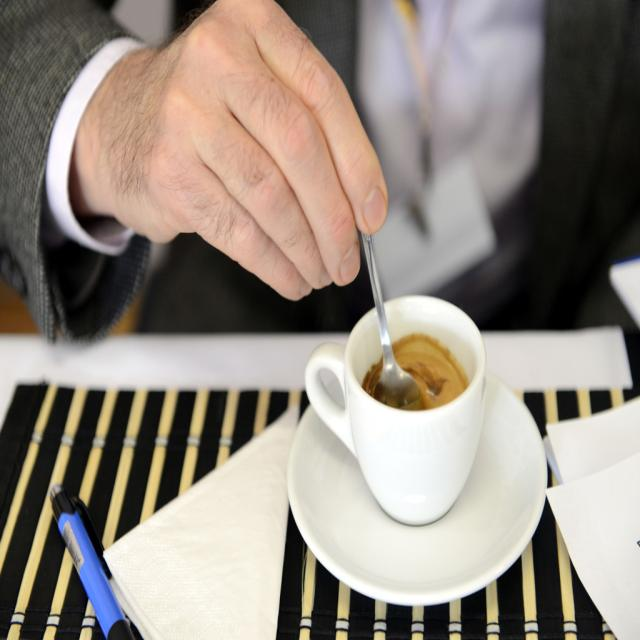pen: (49, 489, 148, 639)
